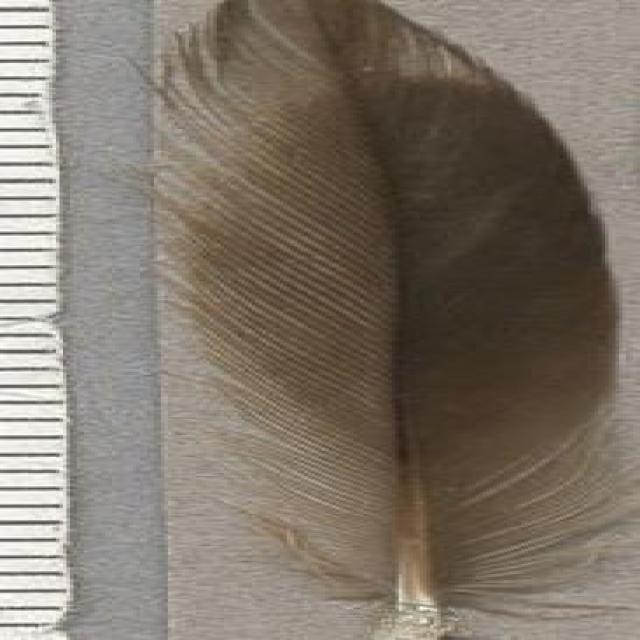feather: (155, 0, 640, 640)
